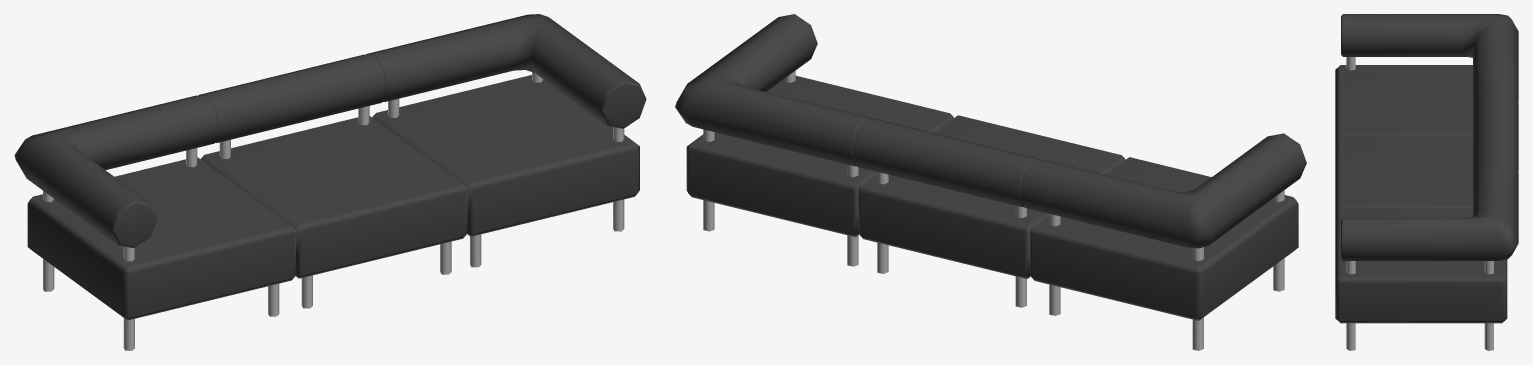
Rendered from sofa_008.fbx.
3 views of the same model, side by side, from view 1: azimuth 30°, elevation 25°; view 2: azimuth 150°, elevation 25°; view 3: azimuth 270°, elevation 25° (orthographic). The views are drawn at different scales.
Parts seen in each view (by area): view 1: sofa_008; view 2: sofa_008; view 3: sofa_008.
Boxes of the visible parts, x1=… form: sofa_008: x1=14, y1=14, x2=646, y2=350; sofa_008: x1=675, y1=14, x2=1306, y2=350; sofa_008: x1=1335, y1=14, x2=1518, y2=350.
Size of the model in its own units: 366 by 127 by 99.51.
